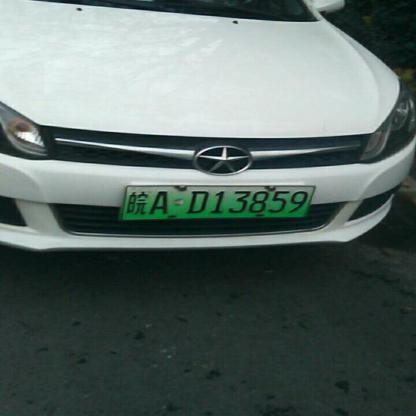lp: (121, 184, 314, 218)
